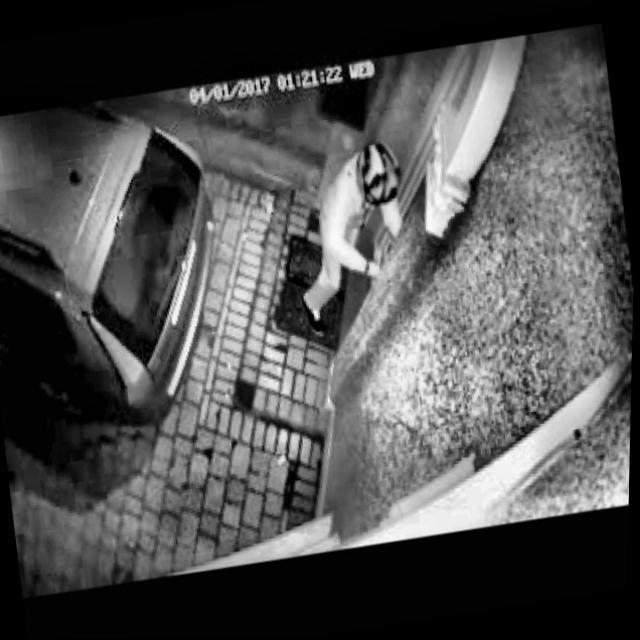Weapon: (314, 99, 434, 371)
